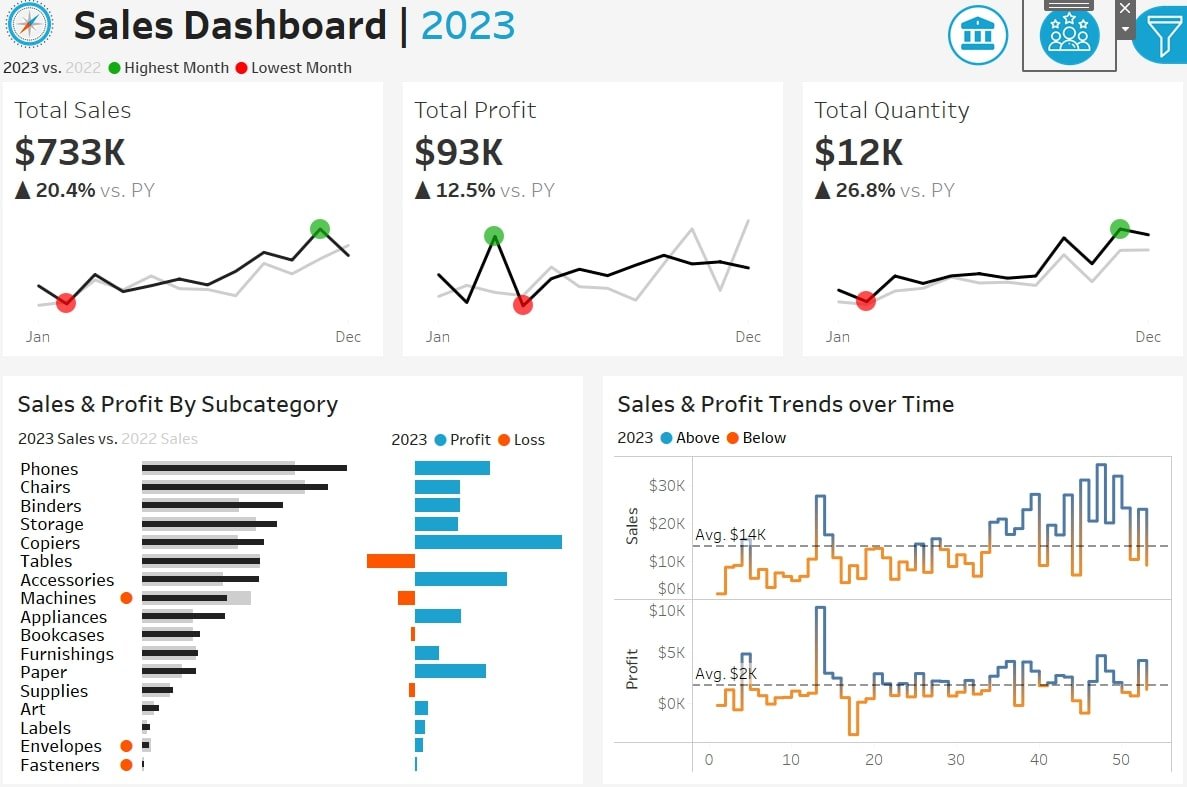

This screenshot's page, from the dashboard's own definition file:
{"tool":"tableau","page":{"name":"Sales Dashboard","canvas":[1200,800],"ordinal":1},"visuals":[{"type":"image","param":"Image/Icon - Logo.png","box":[0,0,73,59]},{"type":"text","box":[73,0,820,59]},{"type":"dashboard-object","box":[940,6,91,70]},{"type":"dashboard-object","box":[1031,6,91,70]},{"type":"blank","box":[952,10,237,86]},{"type":"worksheet","title":"Legend KPI","mark":"Automatic","box":[0,59,1200,29]},{"type":"worksheet","title":"KPI Sales","mark":"Automatic","rows":["Calculation_721701895347843083"],"cols":["Order Date"],"box":[0,88,400,284]},{"type":"worksheet","title":"KPI Profit","mark":"Automatic","rows":["Min/Max Sales (copy)_237846410425847814"],"cols":["Order Date"],"box":[400,88,400,284]},{"type":"worksheet","title":"KPI Quantity","mark":"Automatic","rows":["Min/Max Sales (copy) (copy)_237846410425856007"],"cols":["Order Date"],"box":[800,88,400,284]},{"type":"text","box":[952,96,237,37]},{"type":"parameter","param":"[Parameters].[Parameter 1]","box":[952,133,237,55]},{"type":"text","box":[952,188,237,32]},{"type":"filter","title":"KPI Sales","param":"[federated.1kpxa041aiai2y1cl4pui1t4eju9].[none:Category:nk]","box":[952,220,237,57]},{"type":"filter","title":"KPI Sales","param":"[federated.1kpxa041aiai2y1cl4pui1t4eju9].[none:Sub-Category:nk]","box":[952,277,237,57]},{"type":"blank","box":[952,334,237,60]},{"type":"text","box":[17,389,566,40]},{"type":"text","box":[617,389,566,40]},{"type":"text","box":[952,394,237,32]},{"type":"filter","title":"KPI Sales","param":"[federated.1kpxa041aiai2y1cl4pui1t4eju9].[none:Region:nk]","box":[952,426,237,57]},{"type":"worksheet","title":"Legend Subcategory","mark":"Automatic","box":[17,429,374,32]},{"type":"text","box":[391,429,192,32]},{"type":"text","box":[617,429,566,29]},{"type":"worksheet","title":"Weekly Trends","mark":"Automatic","rows":["Calculation_721701895334993921","CY Sales (copy)_237846410424180736"],"cols":["Order Date"],"box":[617,458,566,325]},{"type":"worksheet","title":"Subcategory Comparison","mark":"Bar","rows":["Sub-Category","Calculation_2435040078806671369"],"cols":["CY Sales (copy)_721701895335804930","Calculation_721701895334993921","CY Sales (copy)_237846410424180736"],"box":[17,461,566,321.9]},{"type":"filter","title":"KPI Sales","param":"[federated.1kpxa041aiai2y1cl4pui1t4eju9].[none:State:nk]","box":[952,483,237,57]},{"type":"filter","title":"KPI Sales","param":"[federated.1kpxa041aiai2y1cl4pui1t4eju9].[none:City:nk]","box":[952,540,237,57]}]}

Visuals, with their boxes in screenshot pixels (x1, y1, x2, y2), scaled from the page's 1200x800 canvas onto the 1187x787 screenshot:
image: [0,0,72,58]
text: [72,0,883,58]
dashboard-object: [930,6,1020,75]
dashboard-object: [1020,6,1110,75]
blank: [942,10,1176,94]
"Legend KPI" worksheet: [0,58,1186,87]
"KPI Sales" worksheet: [0,87,396,366]
"KPI Profit" worksheet: [396,87,791,366]
"KPI Quantity" worksheet: [791,87,1186,366]
text: [942,94,1176,131]
parameter: [942,131,1176,185]
text: [942,185,1176,216]
"KPI Sales" filter: [942,216,1176,272]
"KPI Sales" filter: [942,272,1176,329]
blank: [942,329,1176,388]
text: [17,383,577,422]
text: [610,383,1170,422]
text: [942,388,1176,419]
"KPI Sales" filter: [942,419,1176,475]
"Legend Subcategory" worksheet: [17,422,387,454]
text: [387,422,577,454]
text: [610,422,1170,451]
"Weekly Trends" worksheet: [610,451,1170,770]
"Subcategory Comparison" worksheet (Bar marks): [17,454,577,770]
"KPI Sales" filter: [942,475,1176,531]
"KPI Sales" filter: [942,531,1176,587]
